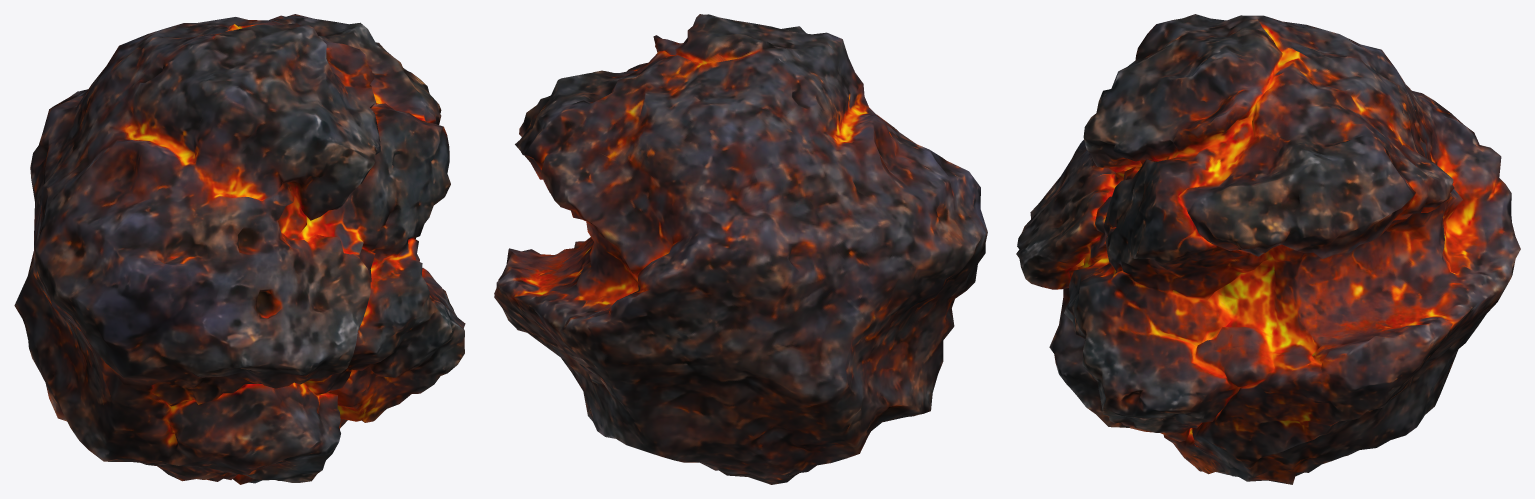
The model's file is lava_rock_b.glb.
The picture shows the model from 3 angles, left to right: view 1: azimuth 30°, elevation 25°; view 2: azimuth 150°, elevation 25°; view 3: azimuth 270°, elevation 25°; orthographic projection. The views are drawn at different scales.
Visible parts, largest first — view 1: lava_rock_b; view 2: lava_rock_b; view 3: lava_rock_b.
Part boxes in pixels (<box>): lava_rock_b: <box>14,14,465,484</box>; lava_rock_b: <box>494,14,987,484</box>; lava_rock_b: <box>1016,14,1520,484</box>.
Size of the model in its own units: 0.9019 by 0.9404 by 0.9604.
Materials: 1 (1 with a texture image).
